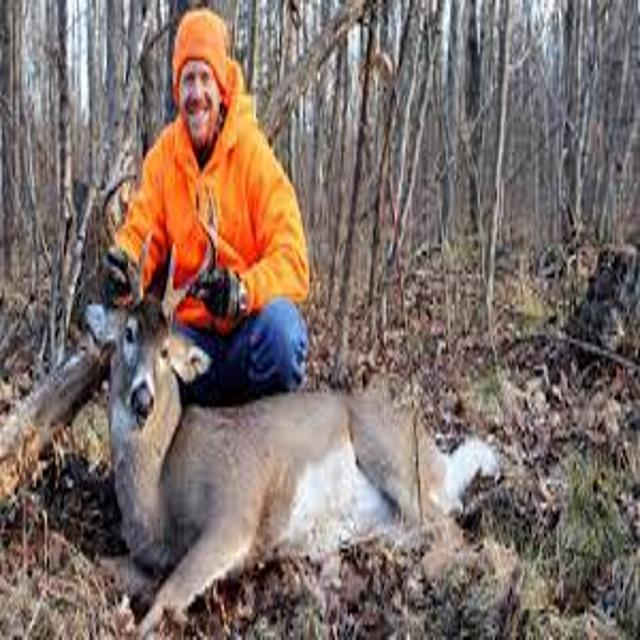deer: (51, 238, 520, 634)
poacher: (59, 12, 394, 418)
